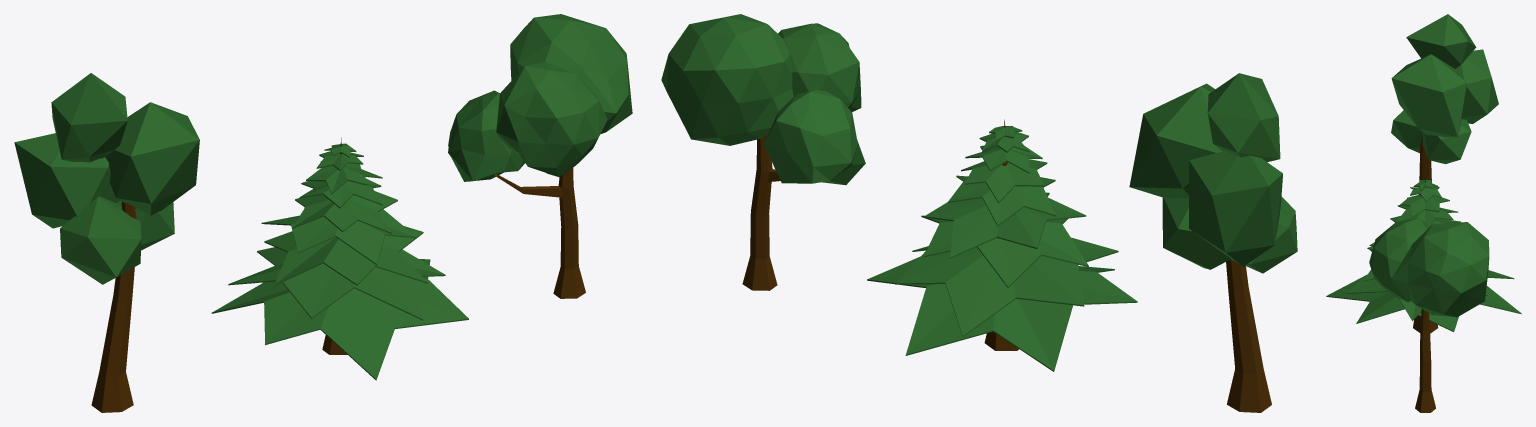
Rendered from LowPolyTrees.fbx.
The picture shows the model from 3 angles, left to right: view 1: azimuth 30°, elevation 25°; view 2: azimuth 150°, elevation 25°; view 3: azimuth 270°, elevation 25°; orthographic projection. The views are drawn at different scales.
Visible parts, largest first — view 1: Tree03, Tree02, Tree01; view 2: Tree02, Tree01, Tree03; view 3: Tree03, Tree01, Tree02.
Part boxes in pixels (box(x1,y1,x2,y2)): Tree03: box(14, 73, 199, 412); Tree02: box(211, 138, 468, 380); Tree01: box(448, 14, 632, 298); Tree02: box(867, 119, 1137, 371); Tree01: box(661, 14, 865, 290); Tree03: box(1129, 73, 1297, 412); Tree03: box(1391, 14, 1498, 194); Tree01: box(1369, 217, 1489, 412); Tree02: box(1326, 177, 1521, 333).
Size of the model in its own units: 765 by 405 by 309.
